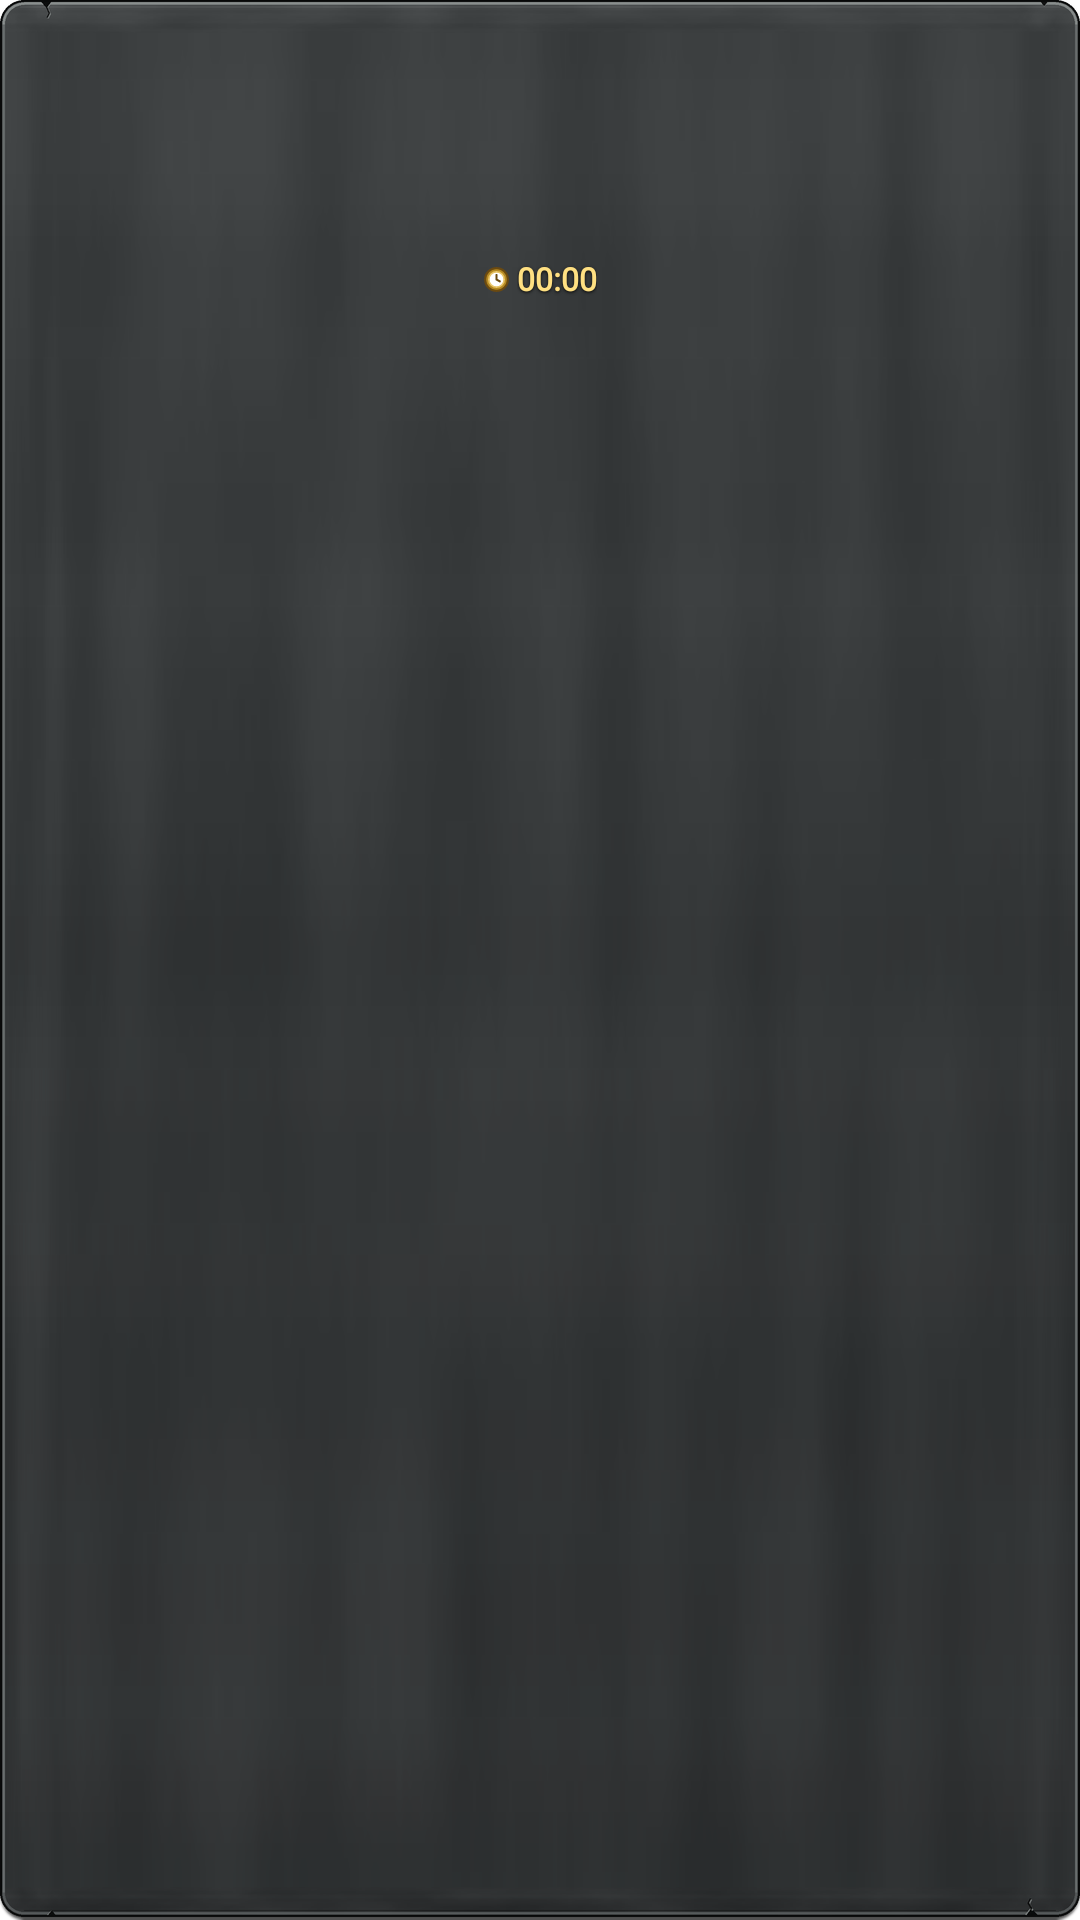

Point at icon controls on the screen. Image size 1080w x 1920h, points as (x=x, y=y).
clock: (x=496, y=279)
